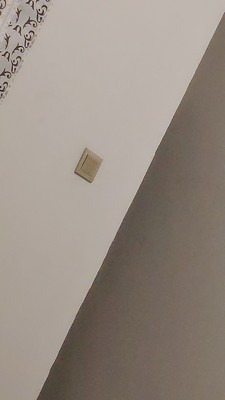switch: (79, 153, 102, 177)
